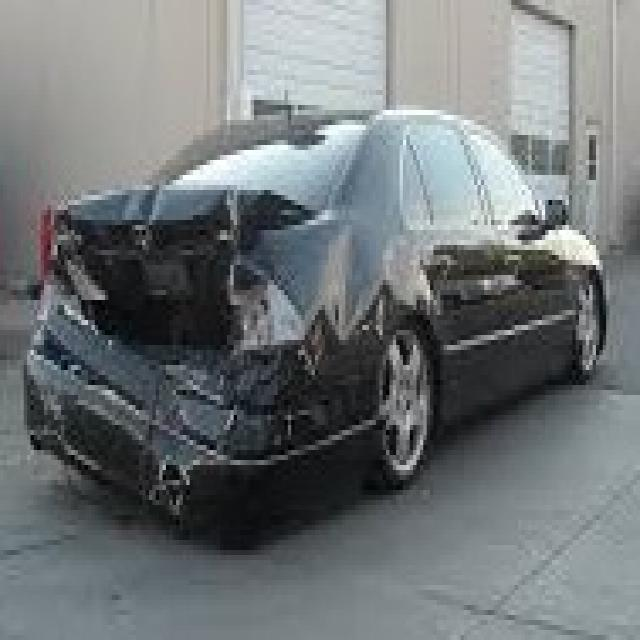moderate: (26, 176, 404, 526)
